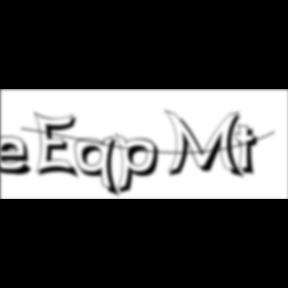E: (34, 110, 84, 182)
M: (163, 108, 247, 181)
e: (1, 135, 40, 178)
p: (115, 132, 165, 198)
q: (76, 135, 124, 200)
t: (234, 124, 266, 179)
